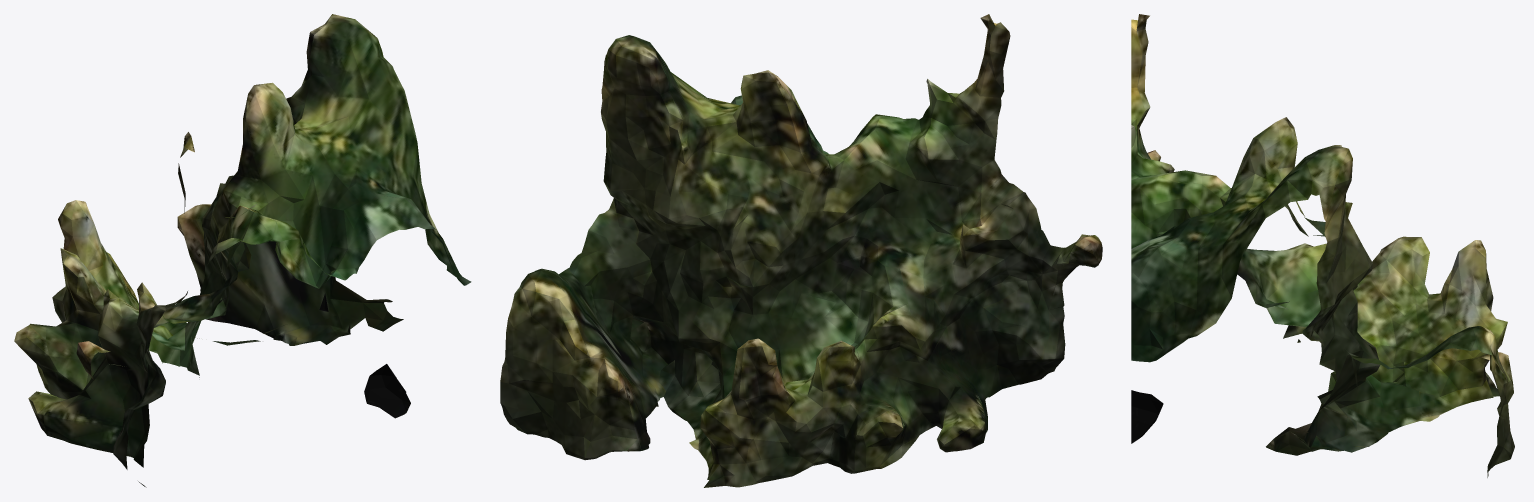
The picture shows the model from 3 angles, left to right: view 1: azimuth 30°, elevation 25°; view 2: azimuth 150°, elevation 25°; view 3: azimuth 270°, elevation 25°; orthographic projection. The views are drawn at different scales.
Size of the model in its own units: 1.67 by 1.4 by 1.46.
4 materials, 4 textured.
